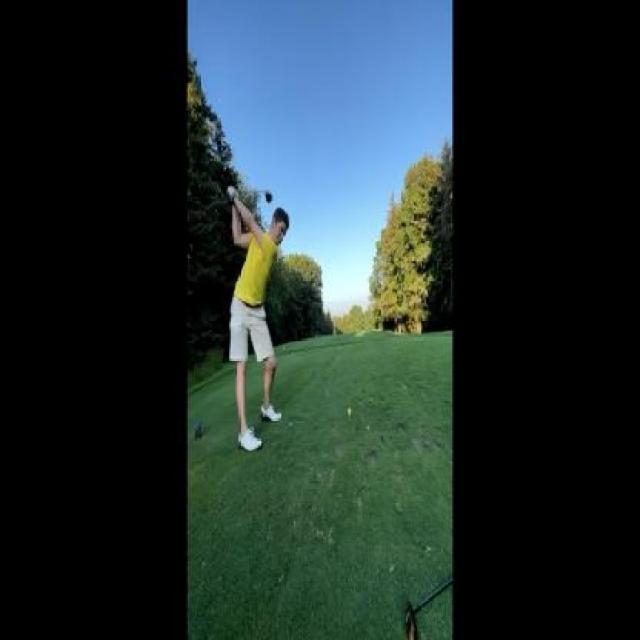club head: (262, 187, 276, 205)
